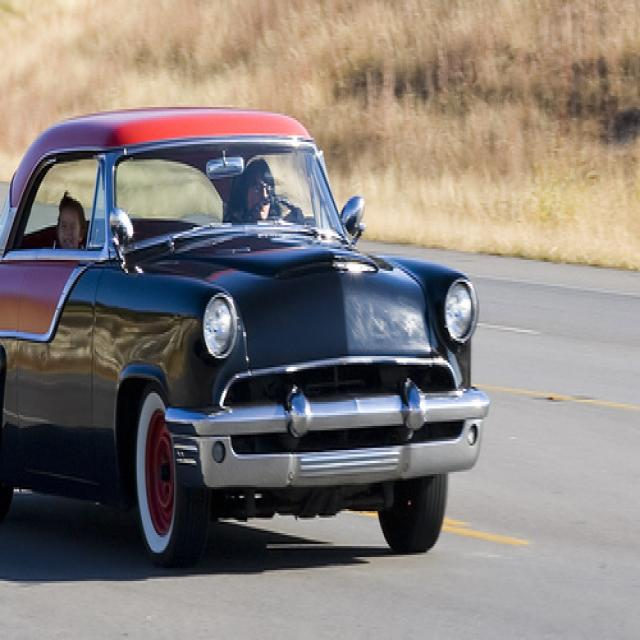Car: (0, 100, 487, 556)
